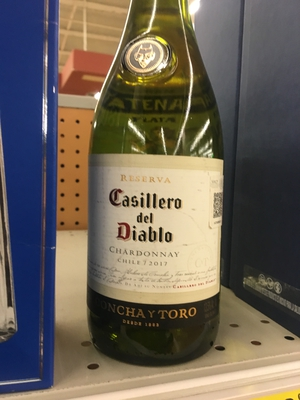casillero del diablo chardonnay: (80, 5, 251, 380)
